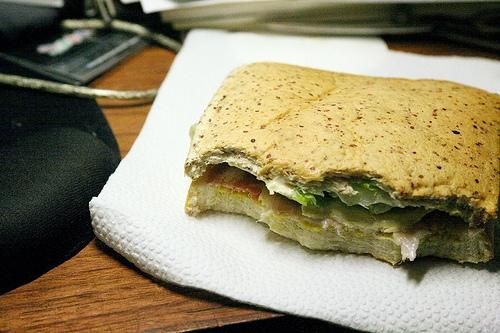lettuce: (300, 177, 484, 228), (301, 191, 437, 233), (291, 194, 314, 206)
